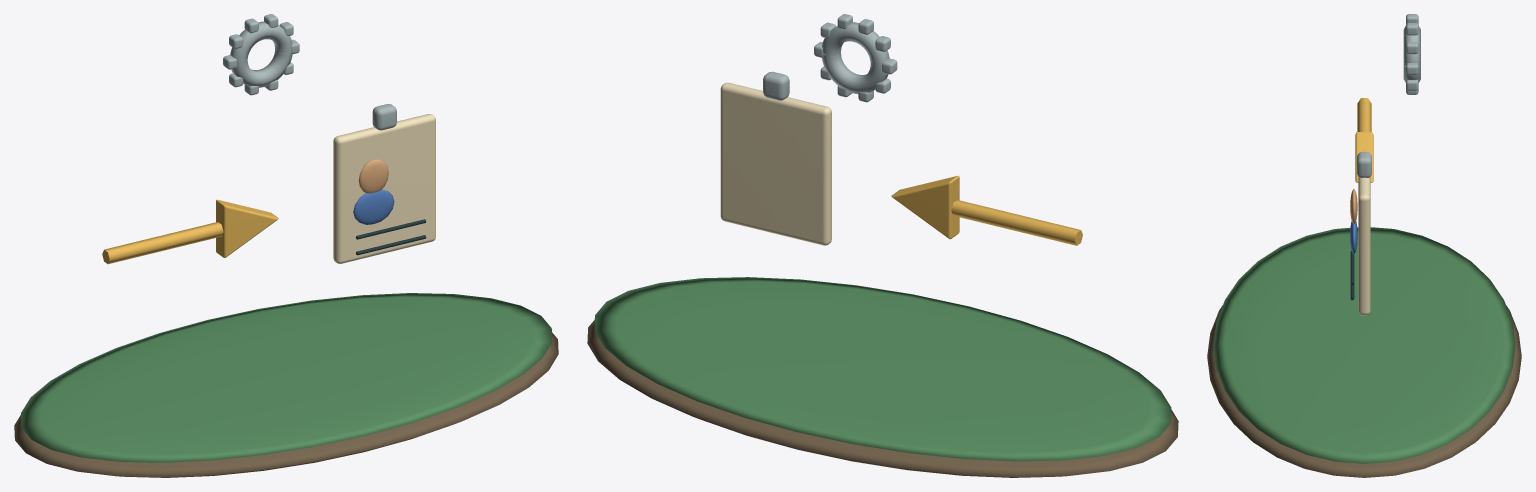
The model's file is complete-third-responding-employment.glb.
3 views of the same model, side by side, from view 1: azimuth 30°, elevation 25°; view 2: azimuth 150°, elevation 25°; view 3: azimuth 270°, elevation 25° (orthographic). The views are drawn at different scales.
Parts seen in each view (by area): view 1: complete-third-responding-employment_surface_01, complete-third-responding-employment_surface_03, complete-third-responding-employment_surface_00, complete-third-responding-employment_surface_04, complete-third-responding-employment_surface_02, complete-third-responding-employment_surface_06, complete-third-responding-employment_surface_05, complete-third-responding-employment_surface_07; view 2: complete-third-responding-employment_surface_01, complete-third-responding-employment_surface_03, complete-third-responding-employment_surface_00, complete-third-responding-employment_surface_04, complete-third-responding-employment_surface_02; view 3: complete-third-responding-employment_surface_01, complete-third-responding-employment_surface_00, complete-third-responding-employment_surface_03, complete-third-responding-employment_surface_04, complete-third-responding-employment_surface_02.
Part boxes in pixels (x1,y1,x2,y2): complete-third-responding-employment_surface_01: (21, 293, 551, 462); complete-third-responding-employment_surface_03: (333, 114, 435, 263); complete-third-responding-employment_surface_00: (14, 332, 558, 477); complete-third-responding-employment_surface_04: (223, 14, 396, 130); complete-third-responding-employment_surface_02: (102, 199, 278, 264); complete-third-responding-employment_surface_06: (353, 189, 394, 224); complete-third-responding-employment_surface_05: (358, 159, 388, 193); complete-third-responding-employment_surface_07: (356, 219, 426, 255); complete-third-responding-employment_surface_01: (594, 277, 1171, 461); complete-third-responding-employment_surface_03: (720, 82, 831, 245); complete-third-responding-employment_surface_00: (587, 320, 1178, 477); complete-third-responding-employment_surface_04: (763, 14, 897, 102); complete-third-responding-employment_surface_02: (891, 176, 1082, 245); complete-third-responding-employment_surface_01: (1213, 227, 1515, 463); complete-third-responding-employment_surface_00: (1207, 305, 1521, 477); complete-third-responding-employment_surface_03: (1358, 151, 1370, 315); complete-third-responding-employment_surface_04: (1357, 14, 1420, 177); complete-third-responding-employment_surface_02: (1355, 98, 1373, 182).
Size of the model in its own units: 4.56 by 3.08 by 2.5.
